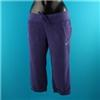bermuda: (29, 12, 72, 94)
